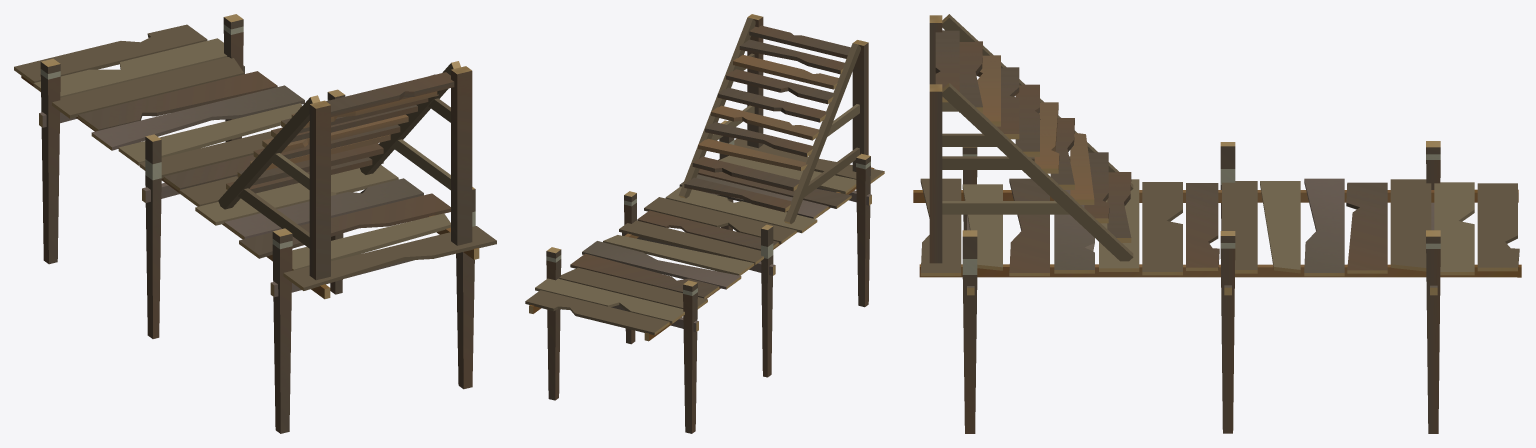
File: Dock_2.fbx
The picture shows the model from 3 angles, left to right: view 1: azimuth 30°, elevation 25°; view 2: azimuth 150°, elevation 25°; view 3: azimuth 270°, elevation 25°; orthographic projection. The views are drawn at different scales.
Parts seen in each view (by area): view 1: polySurface9919; view 2: polySurface9919; view 3: polySurface9919.
Boxes of the visible parts, left/top/right/bottom form: polySurface9919: left=14, top=14, right=496, bottom=433; polySurface9919: left=525, top=14, right=884, bottom=433; polySurface9919: left=913, top=14, right=1521, bottom=433.
Size of the model in its own units: 400 by 637 by 1042.
